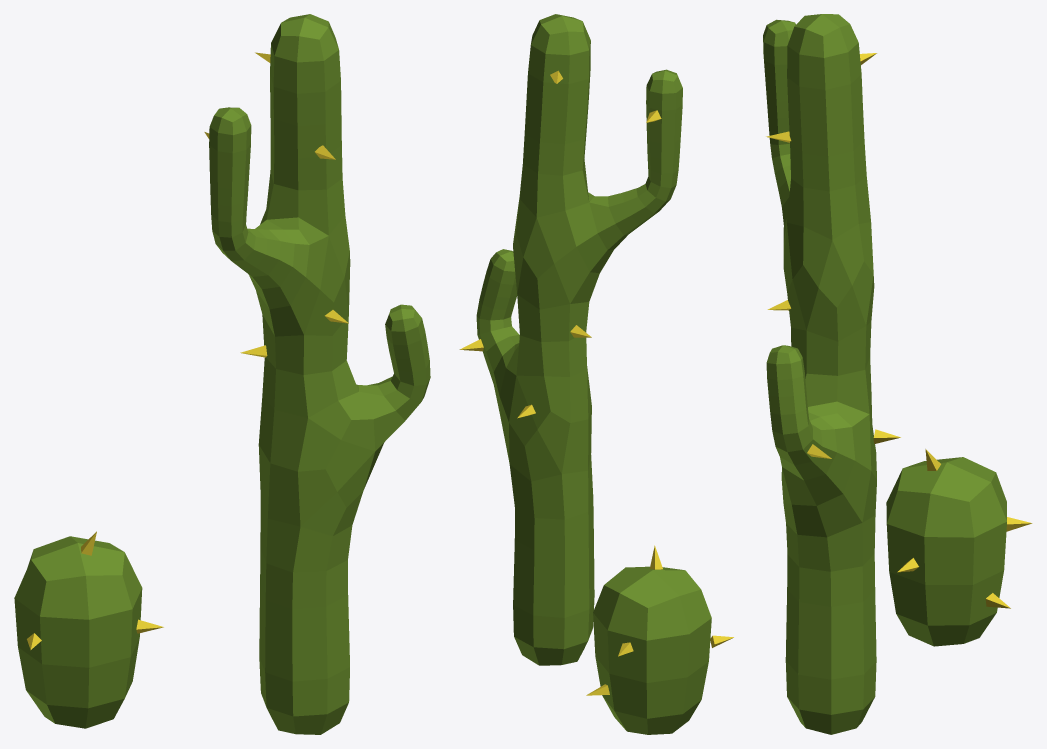
Rendered from Kaktus kecill.glb.
3 renders of one model, left to right at view 1: azimuth 30°, elevation 25°; view 2: azimuth 150°, elevation 25°; view 3: azimuth 270°, elevation 25°, orthographic. The views are drawn at different scales.
Visible parts, largest first — view 1: Plane, Plane.002; view 2: Plane, Plane.002; view 3: Plane, Plane.002.
Boxes of the visible parts, box(x1,y1,x2,y2) form: Plane: box(209, 14, 430, 734); Plane.002: box(14, 536, 142, 728); Plane: box(476, 14, 682, 665); Plane.002: box(593, 566, 711, 734); Plane: box(763, 14, 876, 734); Plane.002: box(886, 457, 1006, 646).
Bounding box in the file's own units: 0.2781 × 0.5579 × 0.1911.
